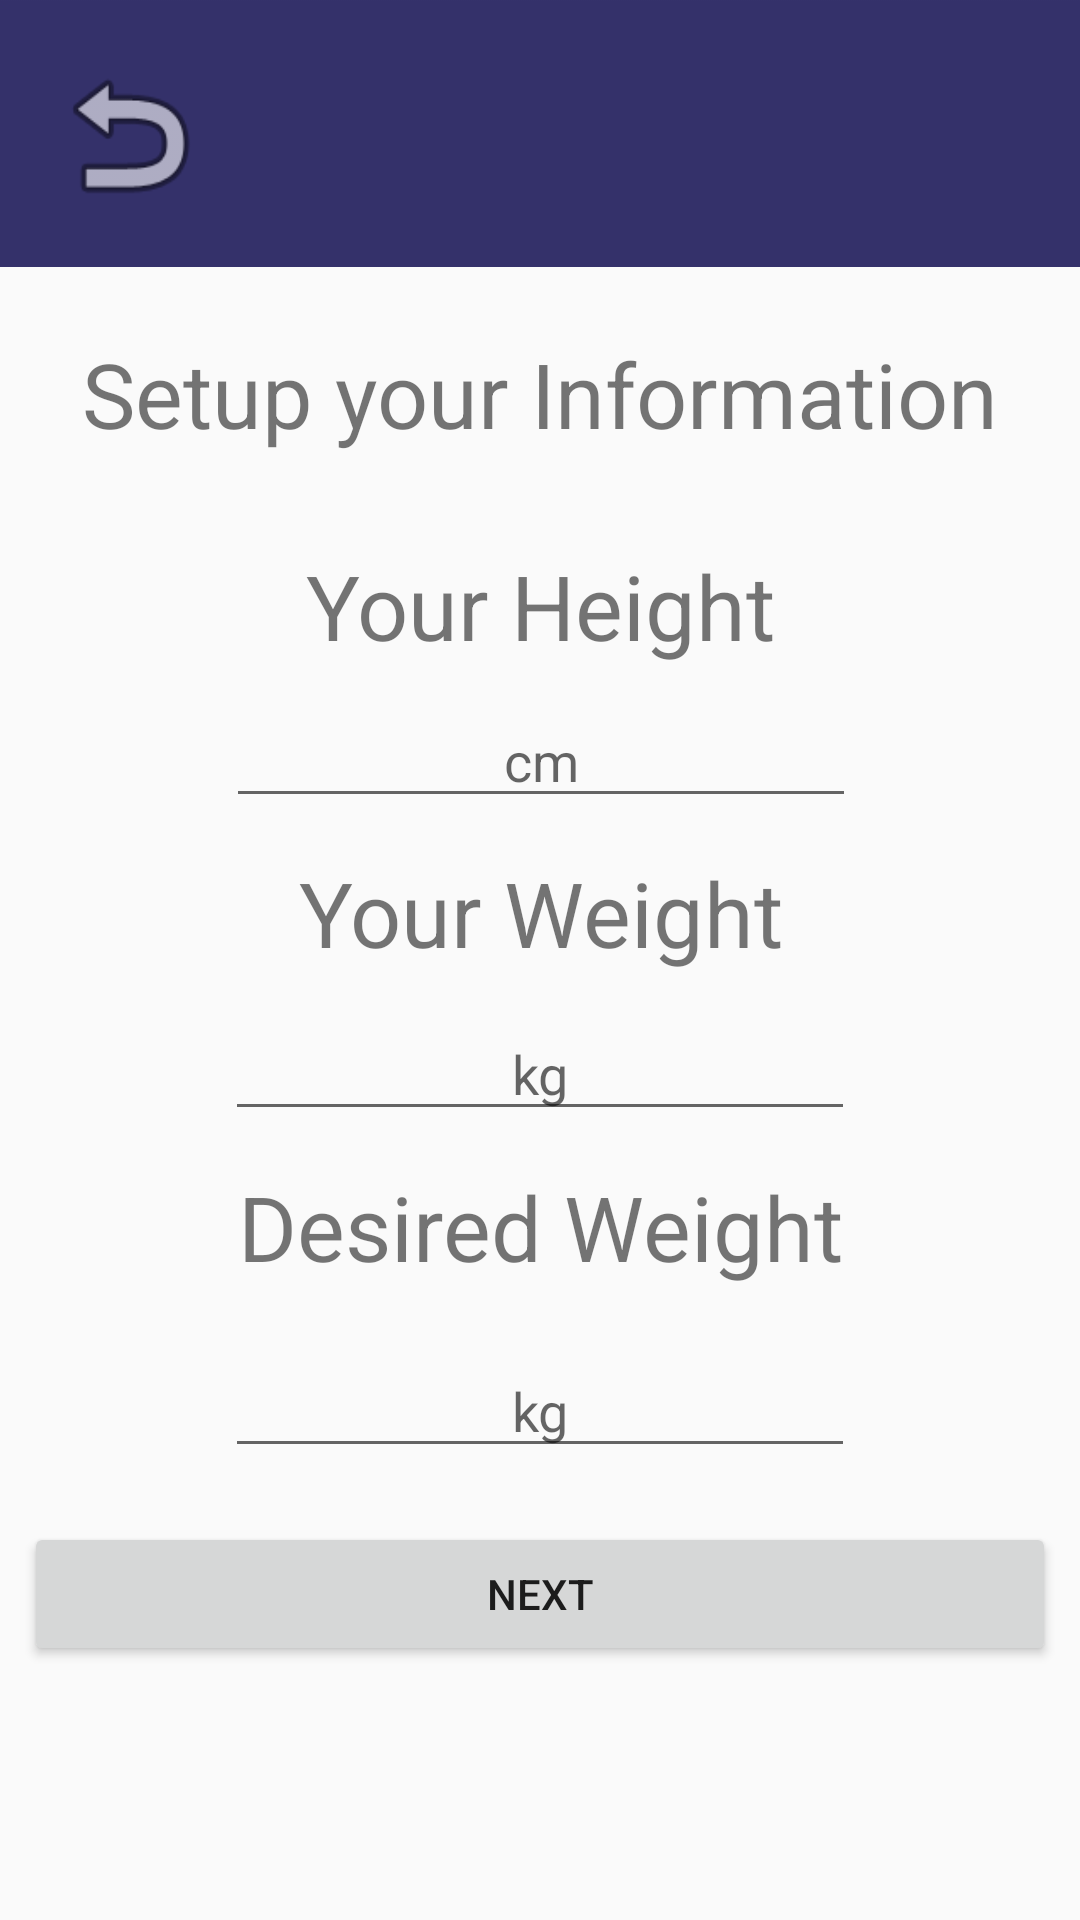

Where icons sit on this 1080px×1920px app screen, as {"left": x1, "top": y1, "right": x2, "bottom": y2}:
revert: {"left": 73, "top": 80, "right": 189, "bottom": 192}
